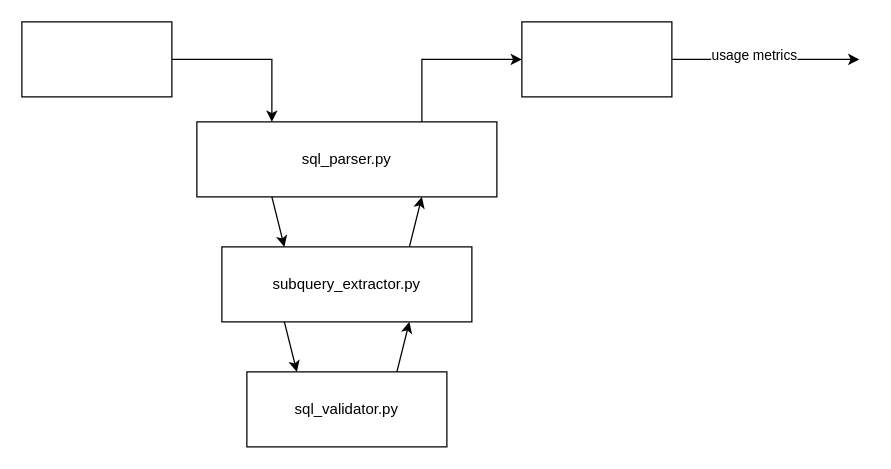
This 891x469 diagram has some shape labels left out. The box of each missing label's shape, as (x1, y1, x2, y2) in pixels:
query_logs.csv: (21, 21, 172, 97)
query_metadata.csv: (521, 21, 672, 97)
